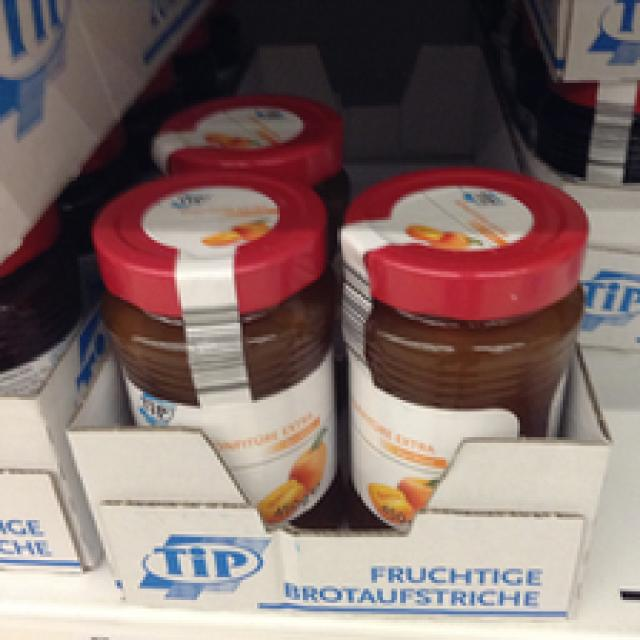groceries: (332, 160, 588, 531), (89, 168, 340, 523)
